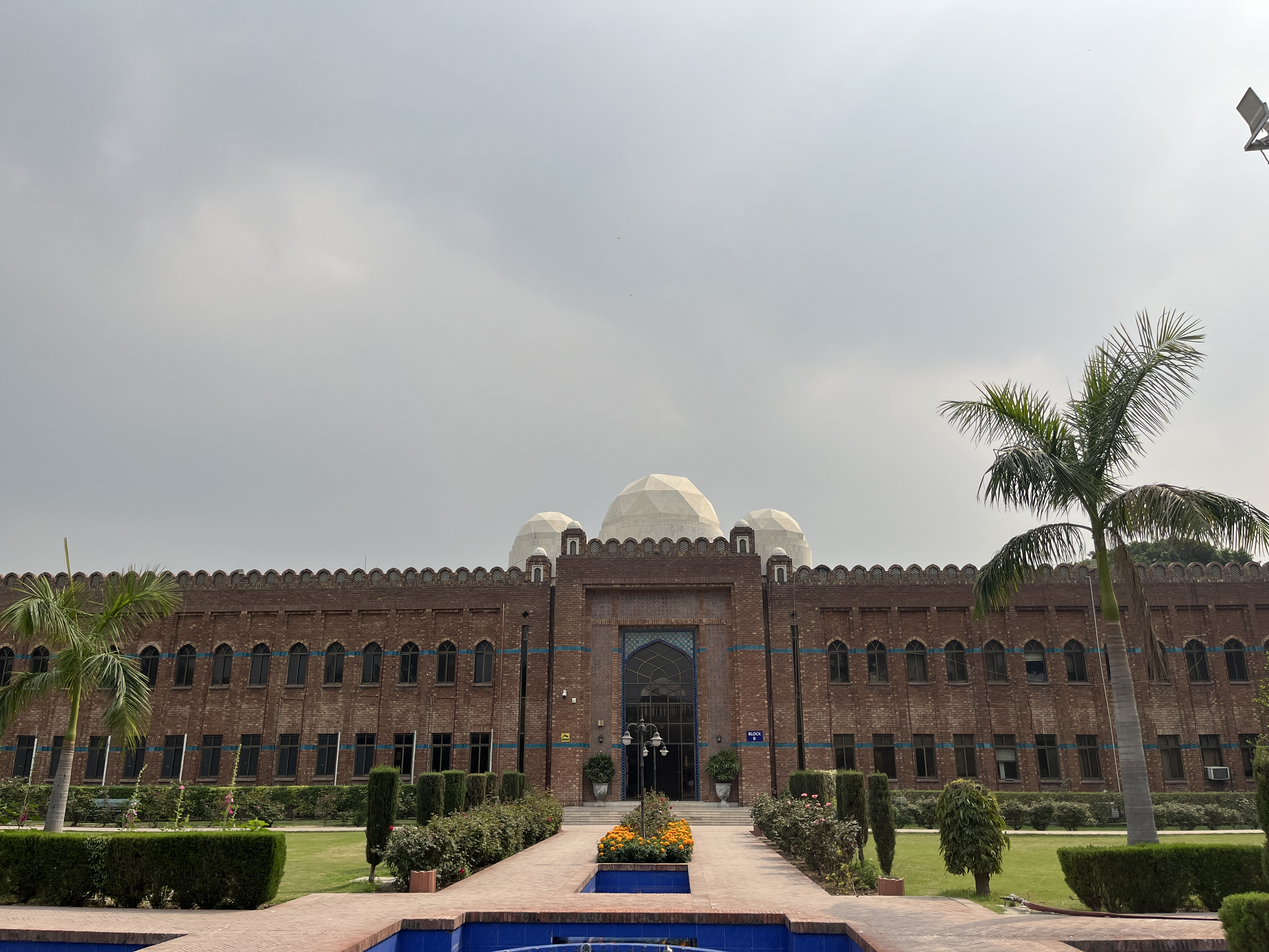Block B: (4, 470, 1269, 830)
